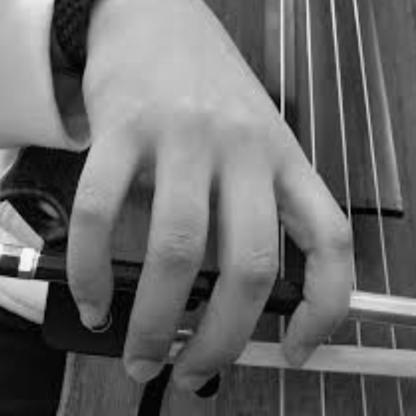good: (53, 86, 360, 392)
